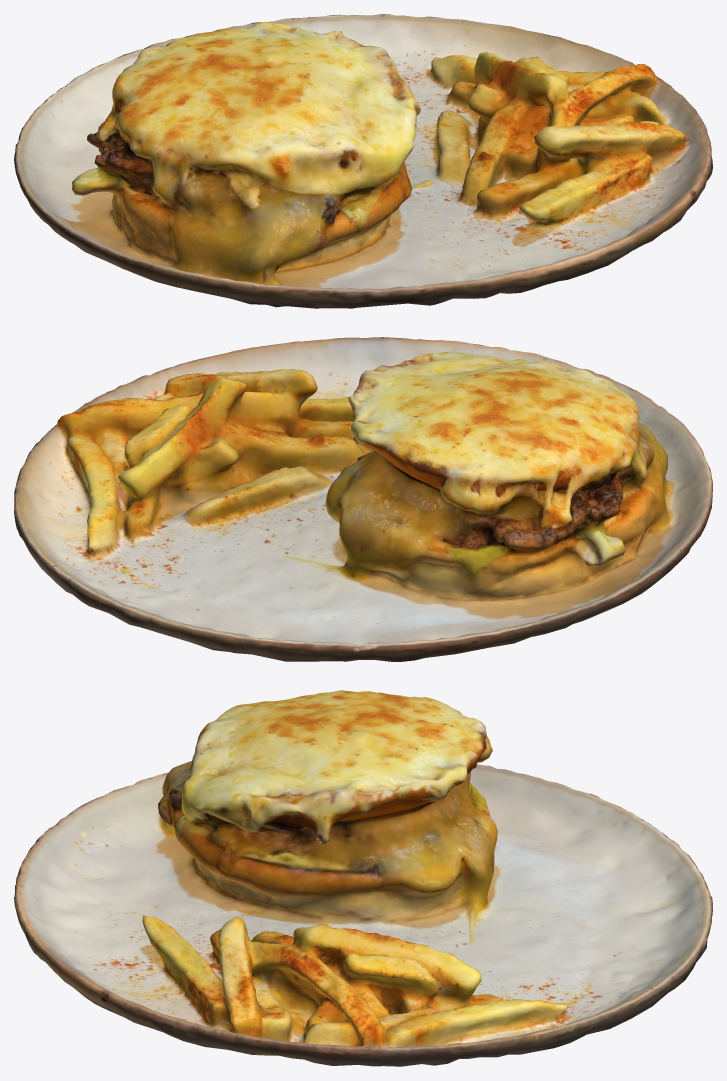
File: sebs 7.glb
The picture shows the model from 3 angles, top to bottom: view 1: azimuth 30°, elevation 25°; view 2: azimuth 150°, elevation 25°; view 3: azimuth 270°, elevation 25°; orthographic projection.
Parts seen in each view (by area): view 1: ObjectCapture; view 2: ObjectCapture; view 3: ObjectCapture.
Part boxes in pixels (x1=…): ObjectCapture: x1=14, y1=14, x2=712, y2=308; ObjectCapture: x1=14, y1=337, x2=712, y2=661; ObjectCapture: x1=14, y1=690, x2=712, y2=1066.
Bounding box in the file's own units: 0.2507 × 0.0669 × 0.2507.
1 material, 1 textured.
